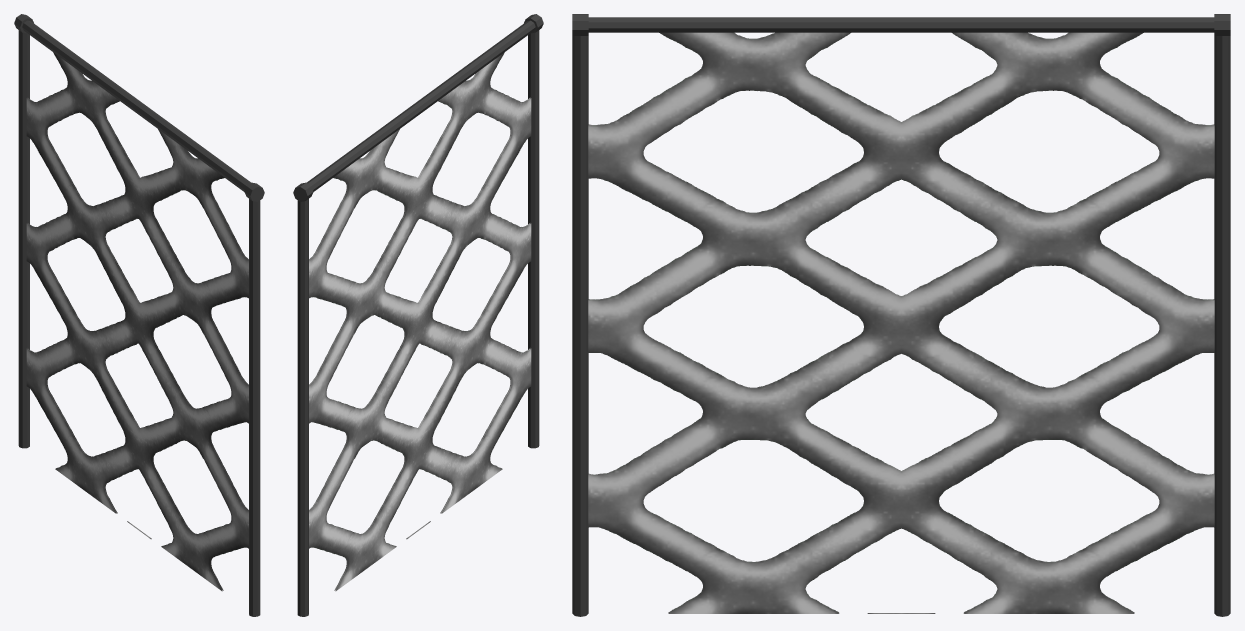
The model's file is Fence.fbx.
3 renders of one model, left to right at view 1: azimuth 30°, elevation 25°; view 2: azimuth 150°, elevation 25°; view 3: azimuth 270°, elevation 25°, orthographic. The views are drawn at different scales.
Parts seen in each view (by area): view 1: Fence; view 2: Fence; view 3: Fence.
Part boxes in pixels (x1,y1,x2,y2): Fence: (14,14,264,616); Fence: (293,14,543,616); Fence: (572,14,1230,616).
Bounding box in the file's own units: 11.19 × 317 × 315.
